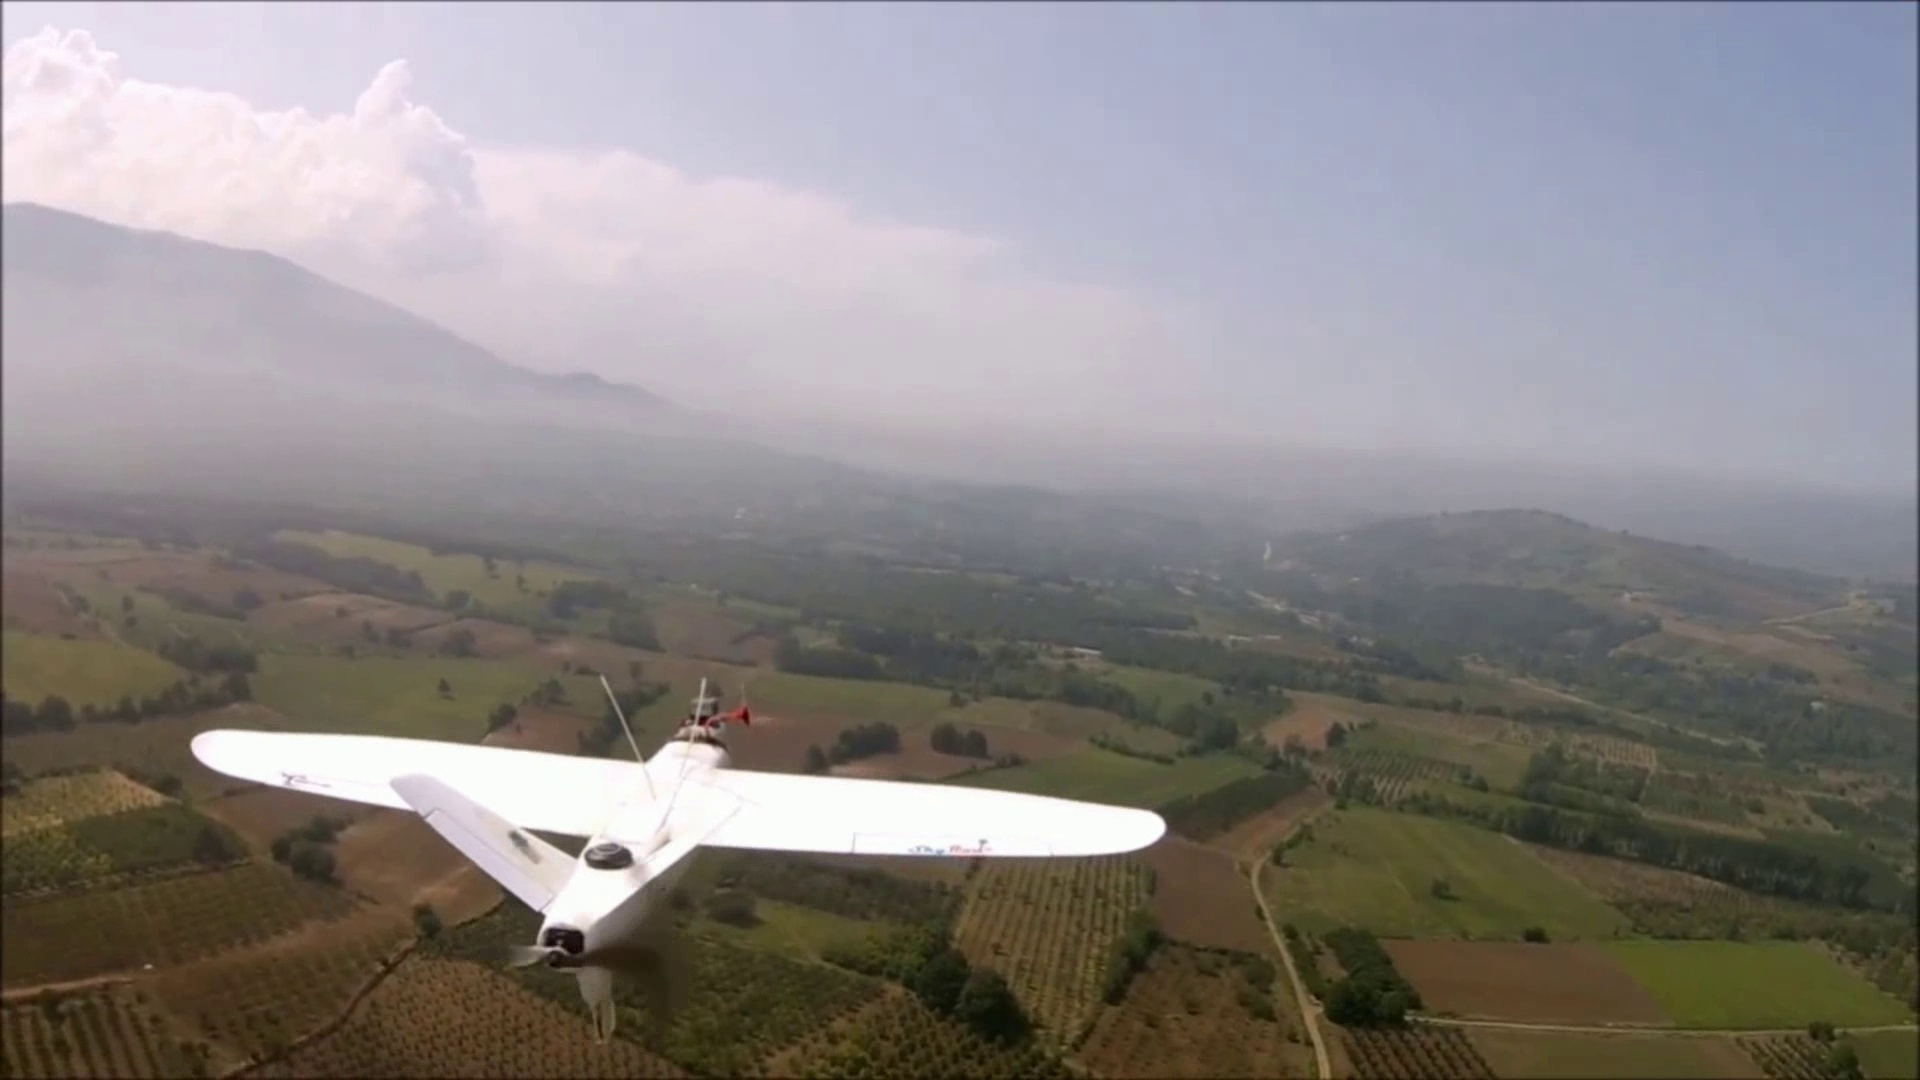airplane: (191, 681, 1169, 989)
